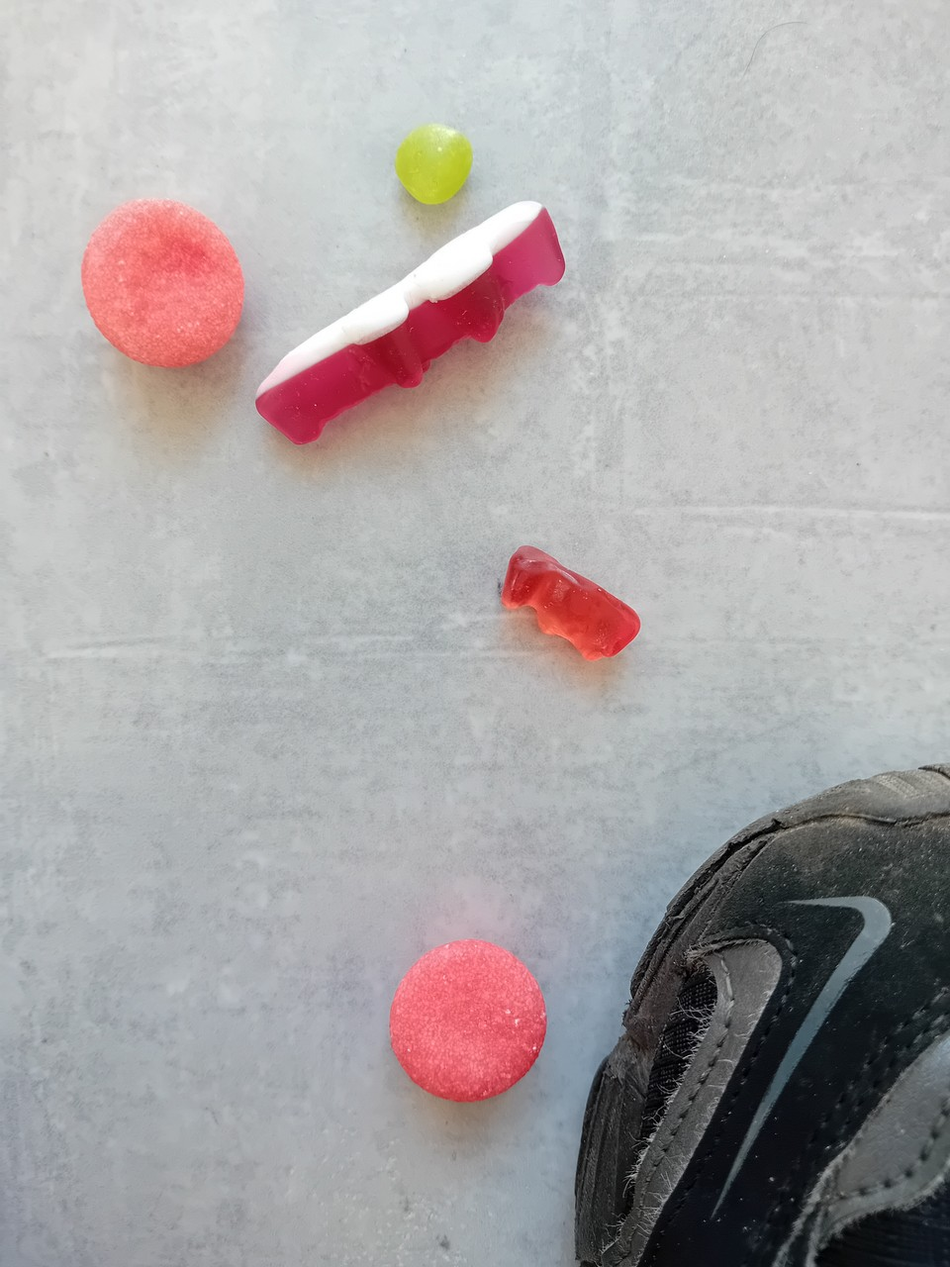crocodile_rouge: (250, 193, 574, 452)
dragibus_vert: (387, 117, 486, 212)
ourson_orangeFonce: (488, 540, 648, 669)
tagada_fraise: (369, 930, 563, 1112), (76, 191, 248, 373)
